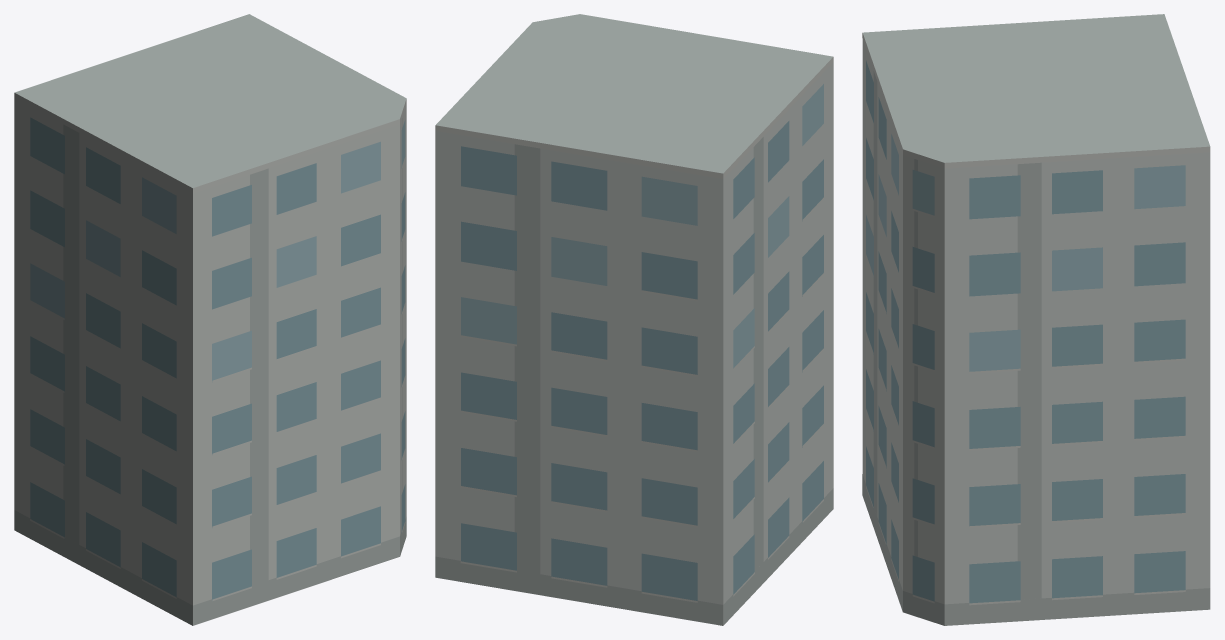
Rendered from survey-upis-32626568.glb.
3 views of the same model, side by side, from view 1: azimuth 30°, elevation 25°; view 2: azimuth 150°, elevation 25°; view 3: azimuth 270°, elevation 25° (orthographic). The views are drawn at different scales.
Visible parts, largest first — view 1: survey-upis-32626568.tmp; view 2: survey-upis-32626568.tmp; view 3: survey-upis-32626568.tmp.
Part boxes in pixels (<box>): survey-upis-32626568.tmp: <box>14,14,406,625</box>; survey-upis-32626568.tmp: <box>435,14,833,625</box>; survey-upis-32626568.tmp: <box>862,14,1210,625</box>.
Size of the model in its own units: 13.39 by 19.4 by 13.22.
